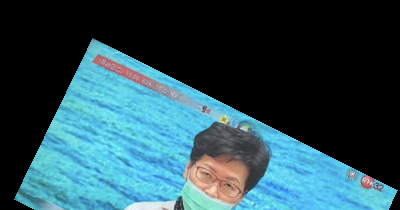mask_weared_incorrect: (173, 123, 269, 210)
